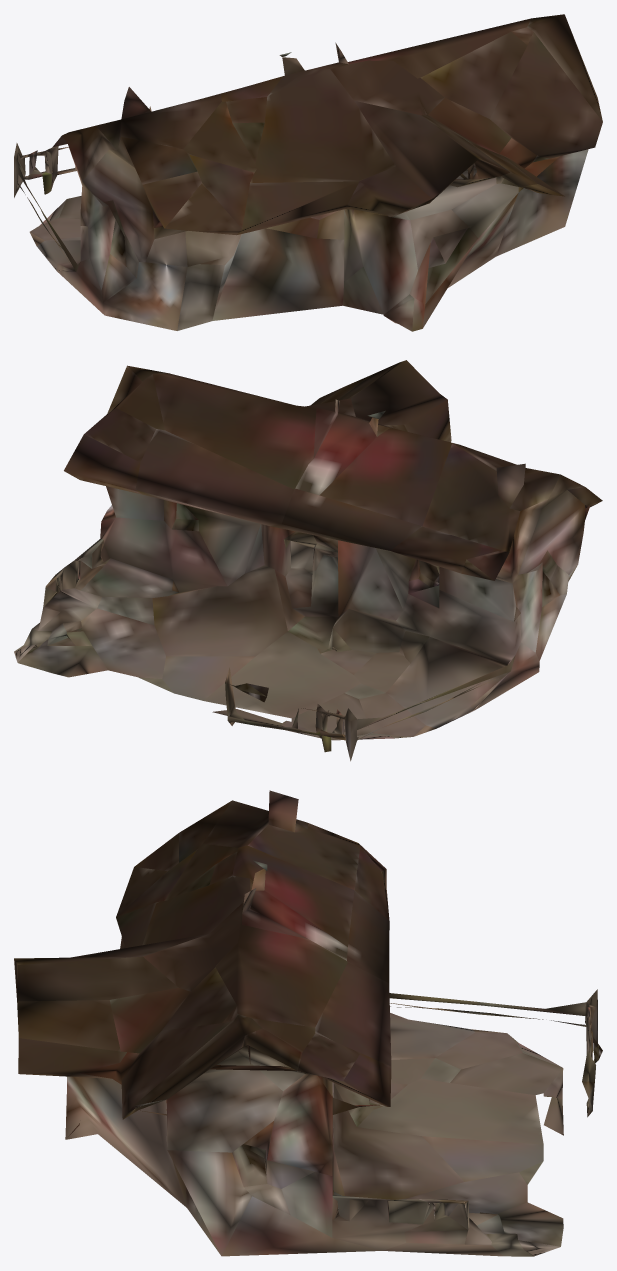
The model's file is abandoned-lod.glb.
3 views of the same model, one above another, from view 1: azimuth 30°, elevation 25°; view 2: azimuth 150°, elevation 25°; view 3: azimuth 270°, elevation 25° (orthographic). The views are drawn at different scales.
Visible parts, largest first — view 1: tripo_node_607dfb3c-29ce-4a17-82b0-824651f649f0; view 2: tripo_node_607dfb3c-29ce-4a17-82b0-824651f649f0; view 3: tripo_node_607dfb3c-29ce-4a17-82b0-824651f649f0.
Boxes of the visible parts, box(x1,y1,x2,y2) form: tripo_node_607dfb3c-29ce-4a17-82b0-824651f649f0: box(14, 14, 602, 331); tripo_node_607dfb3c-29ce-4a17-82b0-824651f649f0: box(14, 360, 602, 761); tripo_node_607dfb3c-29ce-4a17-82b0-824651f649f0: box(14, 790, 602, 1256).
Bounding box in the file's own units: 0.9883 × 0.4731 × 0.9948.
Materials: 1 (1 with a texture image).
